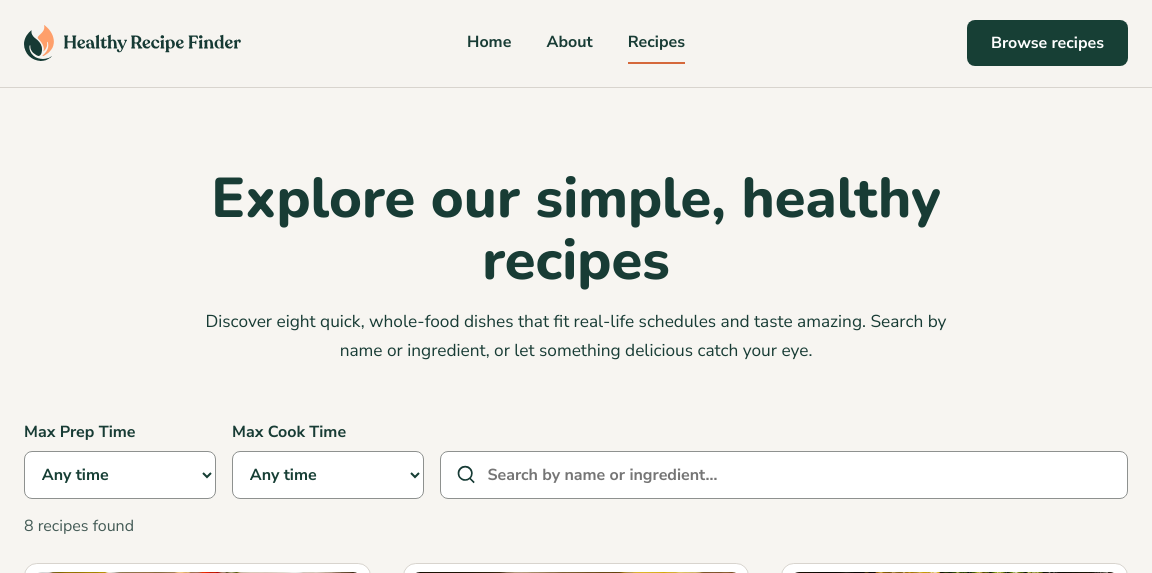
Test case: Healthy Recipe Finder › updates recipe results from search input
Type "lentil" into the search field with placeholder "Search by name or ingredient…" at (784, 475), box [440,451,1128,499]
(page scrolled)
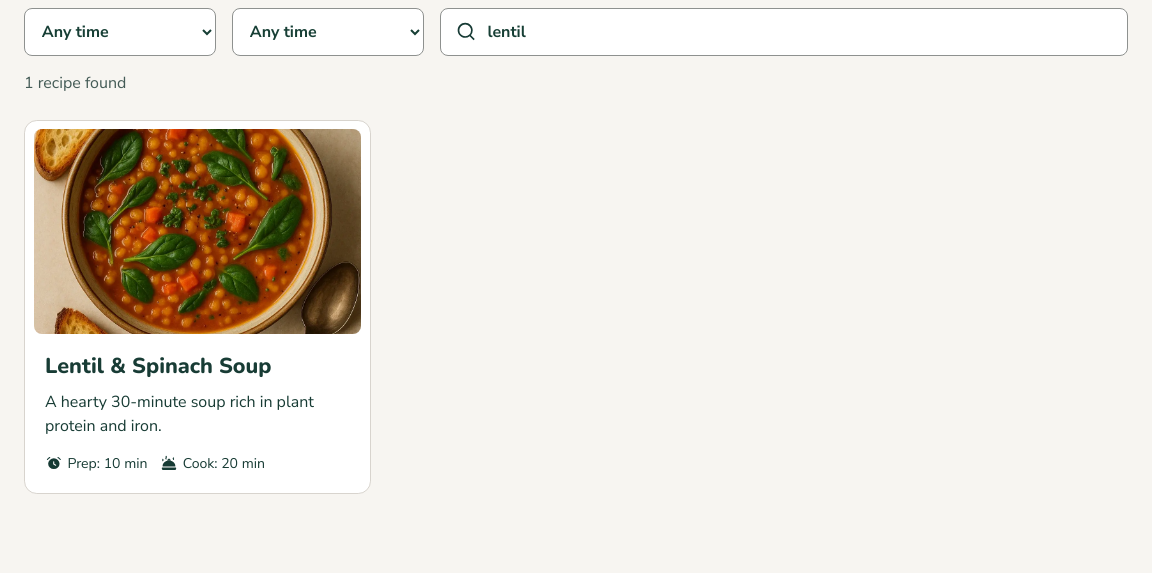
Expected: the heading "Lentil & Spinach Soup" is shown, [45,351,272,381]
Expected: the message reads "1 recipe found", [24,72,126,94]
